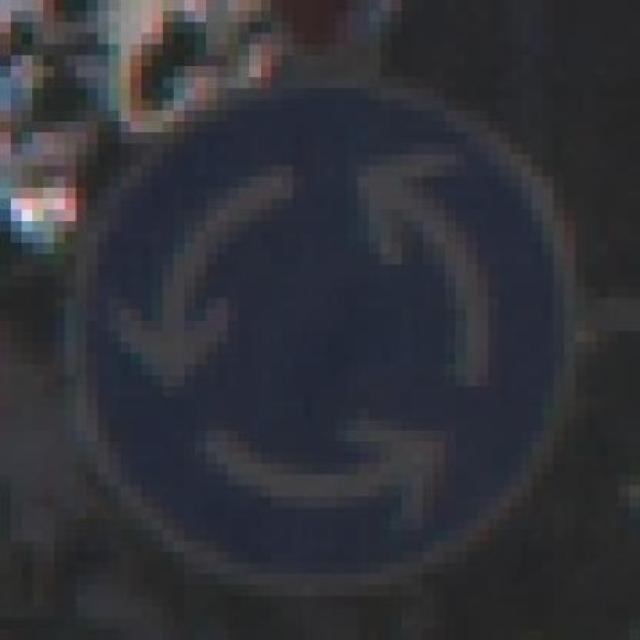Round-About: (65, 55, 597, 596)
